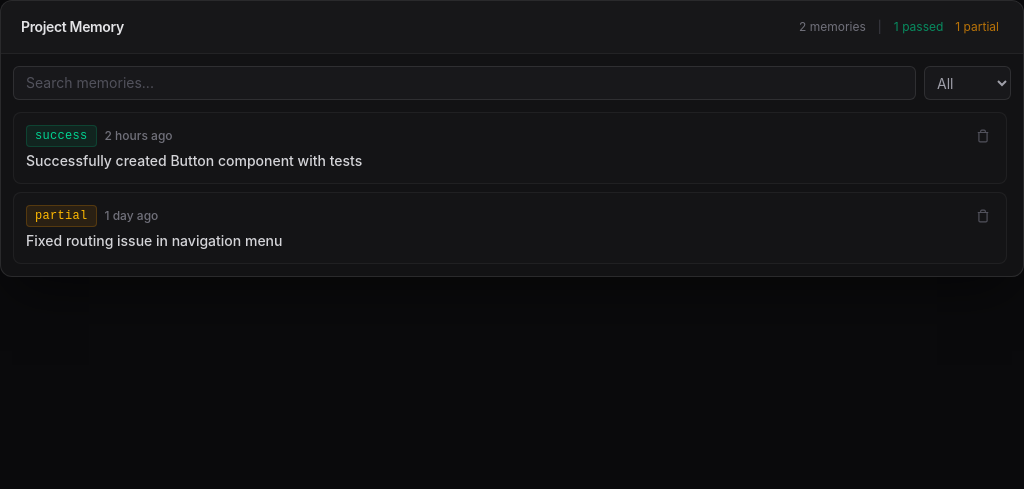
Scenario: ProjectMemoryPanel › expands memory card on click
Step 1. Click the text "Successfully created Button component with tests" → {"x": 194, "y": 160}, box [26,152,362,169]
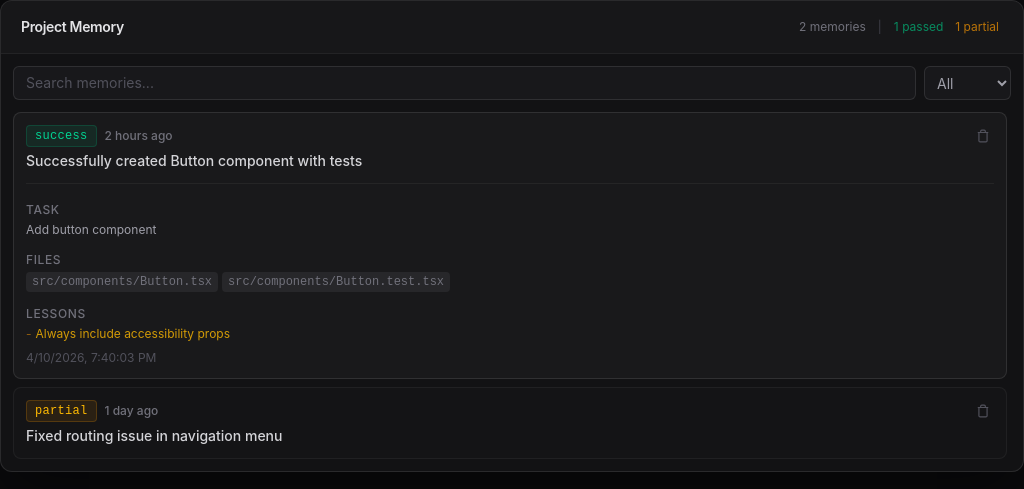
Expected: the text "Add button component" is shown, [26,222,156,237]
Expected: the list item "Always include accessibility props" is shown, [36,326,230,341]
